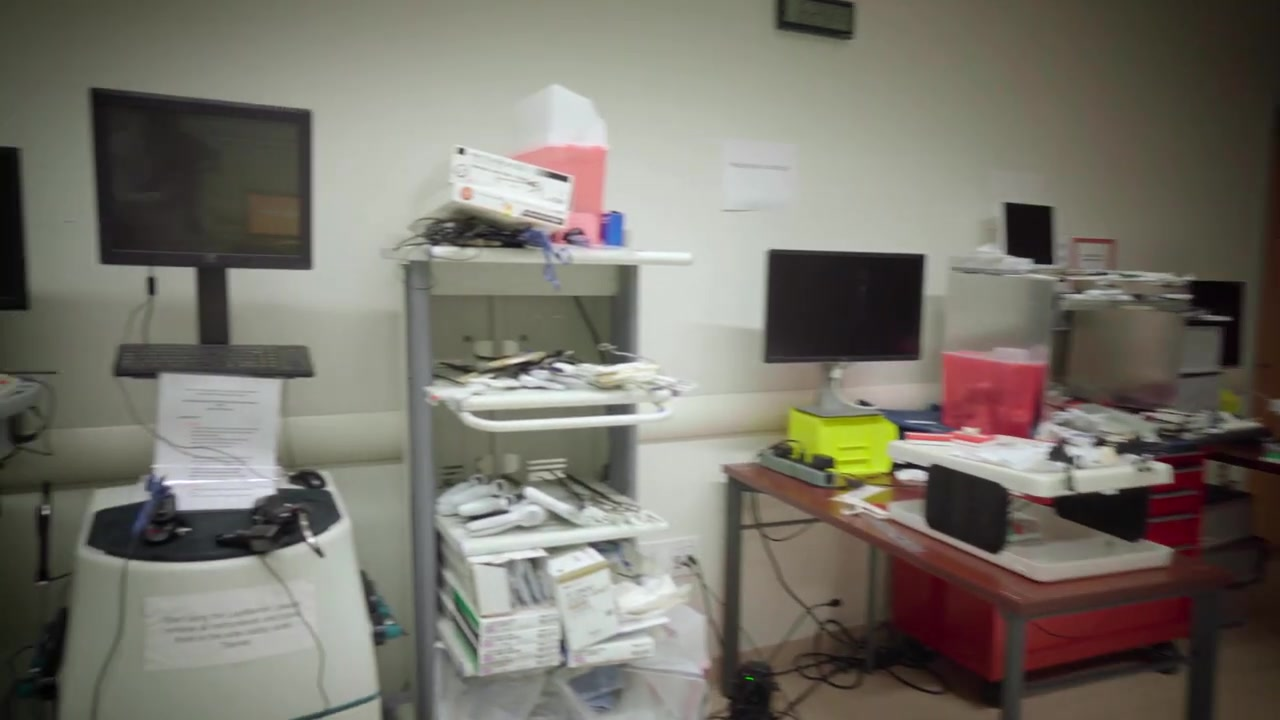computer: (89, 84, 315, 272), (761, 248, 924, 365), (1181, 279, 1239, 355), (1, 143, 26, 312), (1001, 209, 1051, 265)
keyboard: (109, 340, 315, 379)
medical_drawer: (878, 461, 1205, 684)
mouse: (284, 465, 328, 491)
table: (723, 451, 1221, 720)
